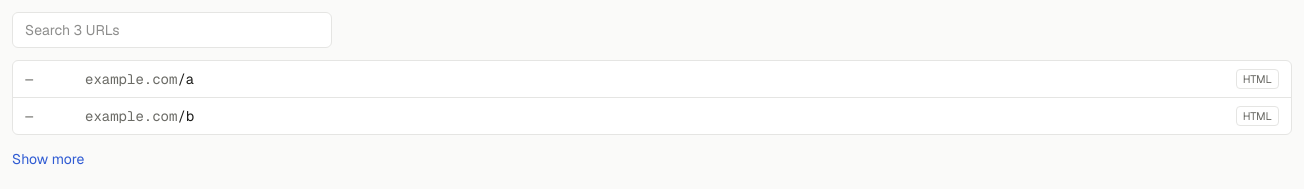
Test: UrlList › shows the first page and loads the next on request
This screenshot has width=1304, height=189.
Expected: the text "/a" is shown, x1=177 y1=70 x2=194 y2=88
Expected: the text "/c" is not shown
Click the button "Show more" at point(48, 159), box x1=12 y1=149 x2=84 y2=169
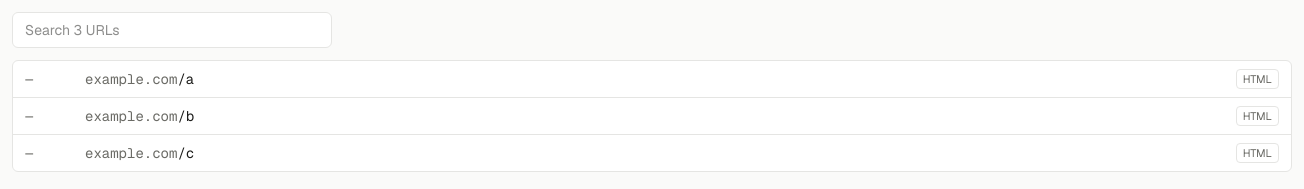
Expected: the text "/a" is shown, x1=177 y1=70 x2=194 y2=88
Now the text "/c" is shown, box x1=177 y1=144 x2=194 y2=162
Now the button "Show more" is gone
